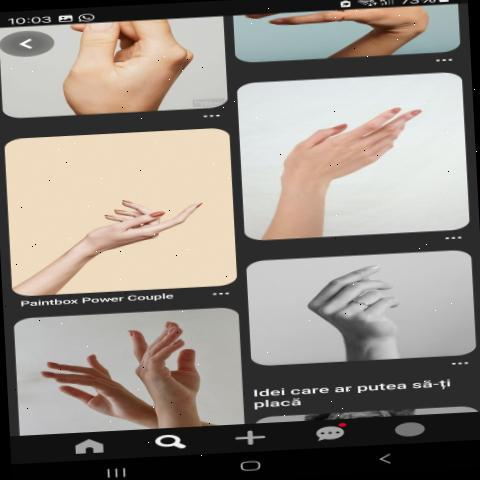Hands: (260, 86, 456, 218), (56, 169, 228, 273), (20, 329, 161, 429), (114, 319, 240, 417), (306, 258, 426, 354)
